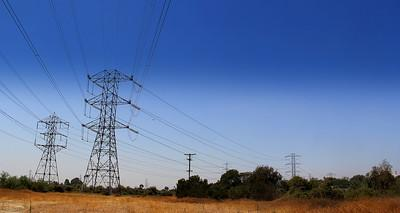power_tower: (82, 64, 138, 191), (29, 110, 75, 180), (283, 151, 303, 185)
